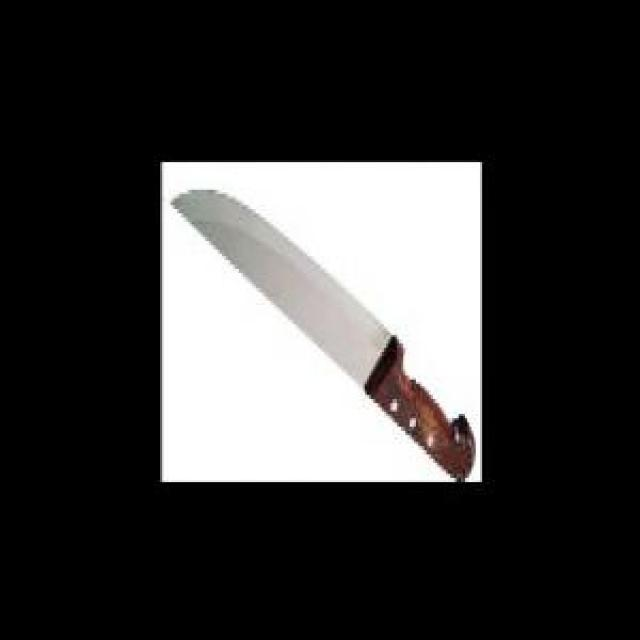knife: (166, 175, 476, 490)
